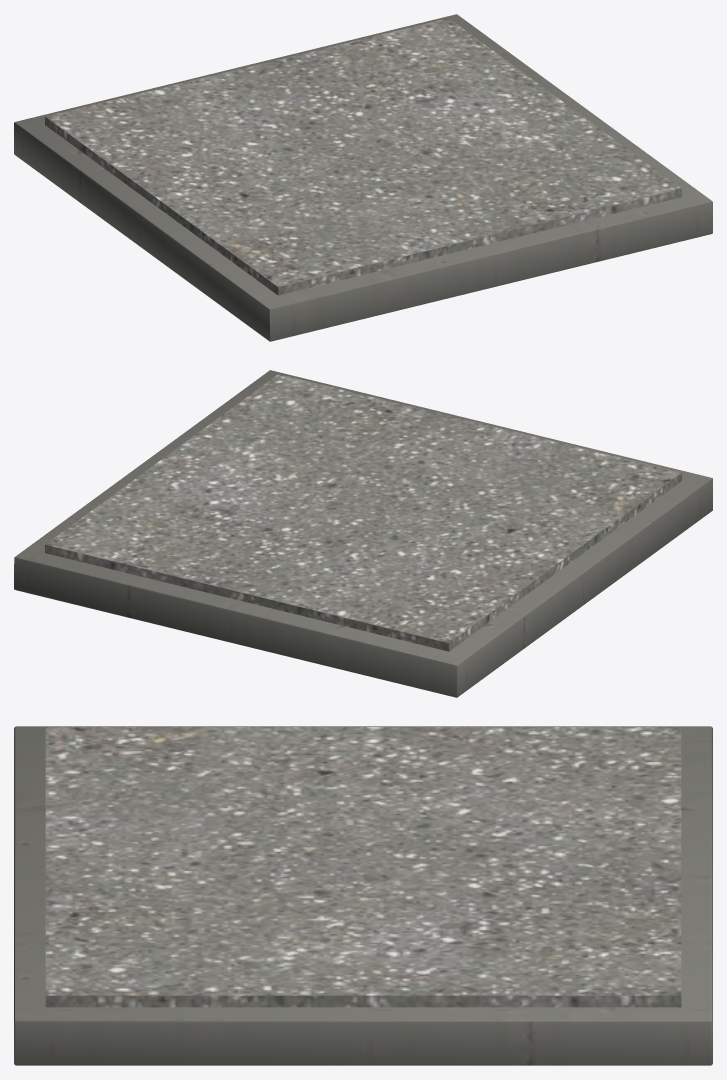
Rendered from PIS-OUT-002_lod1.glb.
3 renders of one model, top to bottom at view 1: azimuth 30°, elevation 25°; view 2: azimuth 150°, elevation 25°; view 3: azimuth 270°, elevation 25°, orthographic. The views are drawn at different scales.
Visible parts, largest first — view 1: PIS-OUT-002_cimentado, PIS-OUT-002_laje; view 2: PIS-OUT-002_cimentado, PIS-OUT-002_laje; view 3: PIS-OUT-002_cimentado, PIS-OUT-002_laje.
Part boxes in pixels (left/top/right/bottom): PIS-OUT-002_cimentado: left=45, top=18, right=681, bottom=295; PIS-OUT-002_laje: left=14, top=14, right=712, bottom=341; PIS-OUT-002_cimentado: left=45, top=374, right=681, bottom=651; PIS-OUT-002_laje: left=14, top=370, right=712, bottom=697; PIS-OUT-002_cimentado: left=45, top=727, right=681, bottom=1007; PIS-OUT-002_laje: left=14, top=726, right=712, bottom=1065.
Size of the model in its own units: 1.1 by 0.1004 by 1.1.
2 materials, 2 textured.
